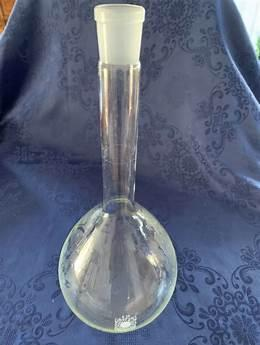Volumetric flask: (56, 1, 178, 332)
